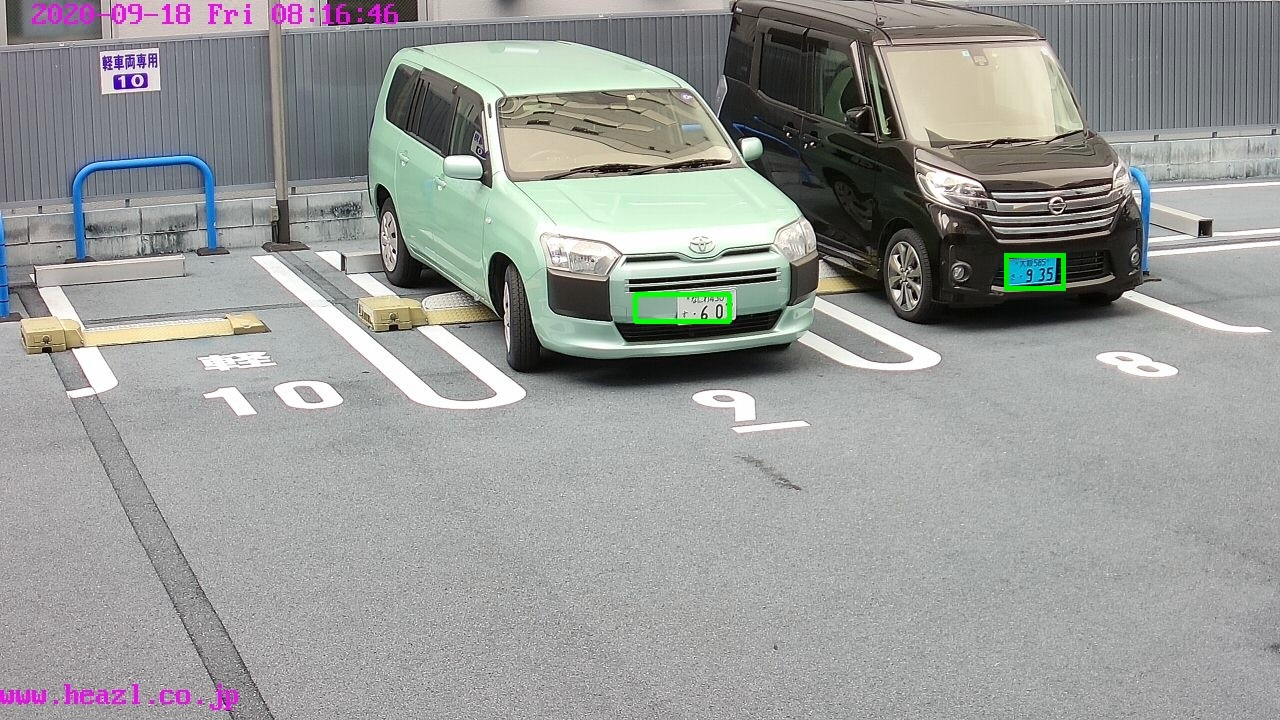number_plate: (678, 289, 737, 319), (1007, 255, 1056, 283)
